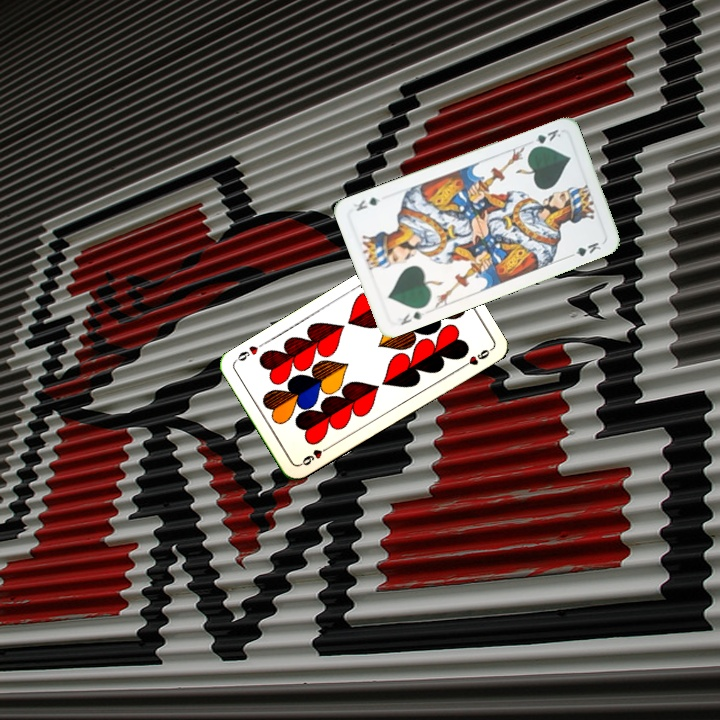GK: (527, 125, 563, 152), (397, 307, 427, 328)
H9: (295, 442, 332, 468)
